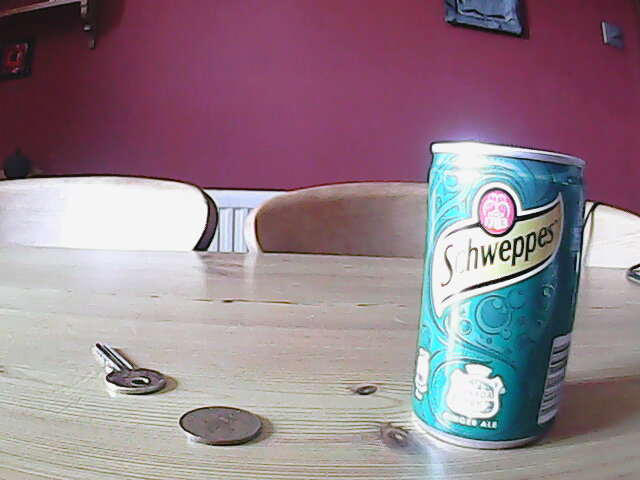Can: (407, 139, 591, 453)
Coin: (175, 403, 265, 449)
Key: (83, 341, 172, 399)
